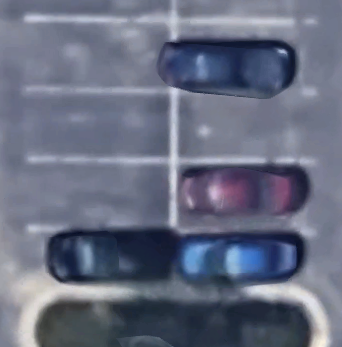Occupied: (174, 19, 317, 89), (174, 161, 316, 229), (25, 230, 173, 289), (174, 230, 315, 289)
Vacant: (24, 18, 174, 89), (24, 90, 174, 160), (25, 160, 174, 229), (174, 90, 317, 161)
